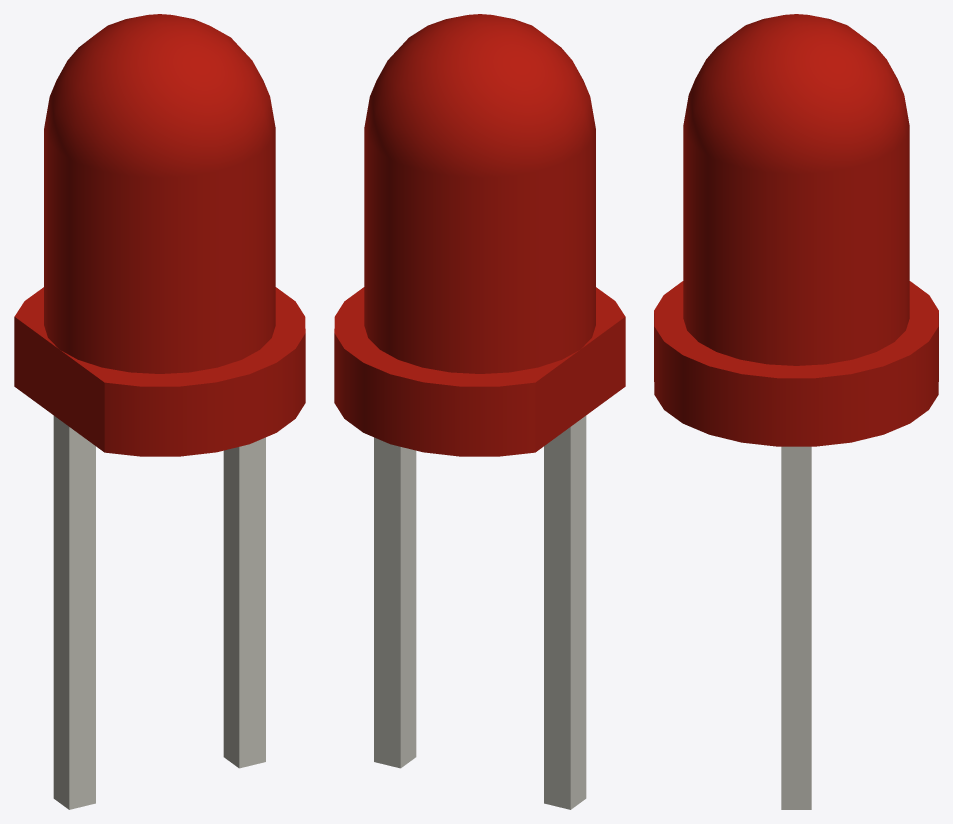
Rendered from LED_D3.0mm.glb.
3 views of the same model, side by side, from view 1: azimuth 30°, elevation 25°; view 2: azimuth 150°, elevation 25°; view 3: azimuth 270°, elevation 25° (orthographic). The views are drawn at different scales.
Visible parts, largest first — view 1: =>[0:1:1:3]; view 2: =>[0:1:1:3]; view 3: =>[0:1:1:3].
Boxes of the visible parts, bbox=[...] form: =>[0:1:1:3]: bbox=[14, 14, 305, 809]; =>[0:1:1:3]: bbox=[334, 14, 625, 809]; =>[0:1:1:3]: bbox=[654, 14, 938, 809].
Bounding box in the file's own units: 0.00338 × 0.0108 × 0.00377.
